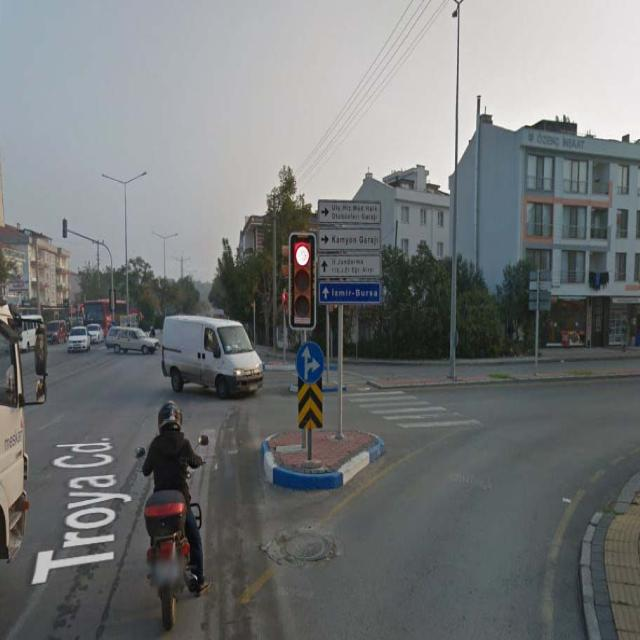ilerisag: (298, 339, 323, 382)
kirmizi: (291, 240, 310, 326)
